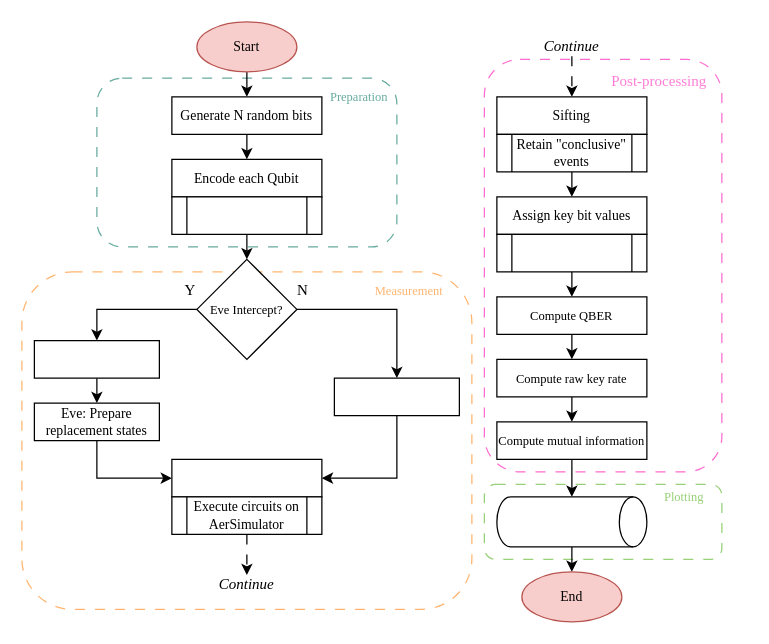
This 769x644 diagram has some shape labels left out. Here are the shapes that lost their labels. From the top down, the box of each, then its label:
(171, 196, 322, 234): bit 0 = no gate bit 1 = H gate
(496, 233, 647, 272): Alice bit = Alice bit Bob bit = 1 - Bob basis
(33, 339, 159, 378): Eve: Measure in random basis
(333, 377, 459, 416): Bob: Measure in random basis (Z or X)
(171, 458, 322, 497): If X-basis: Apply H gate
(496, 496, 647, 547): Return B92Result dataclass
